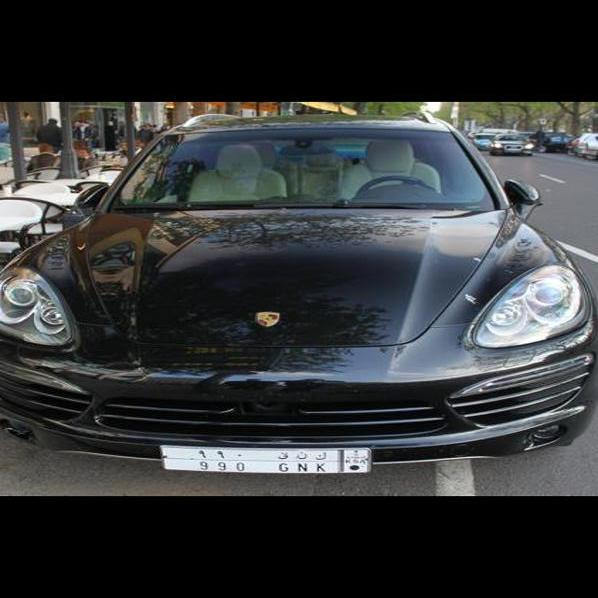numberplate: (169, 446, 371, 475)
